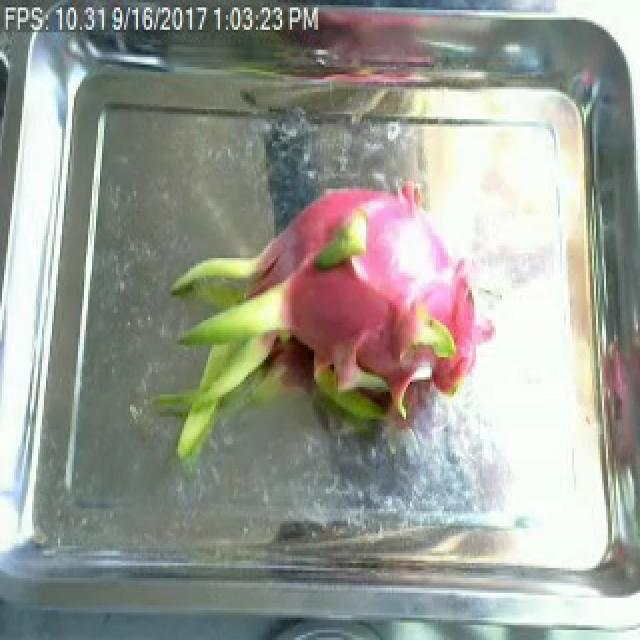fruit: (146, 156, 486, 486)
